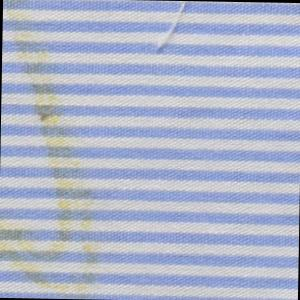Stain: (1, 1, 108, 300)
